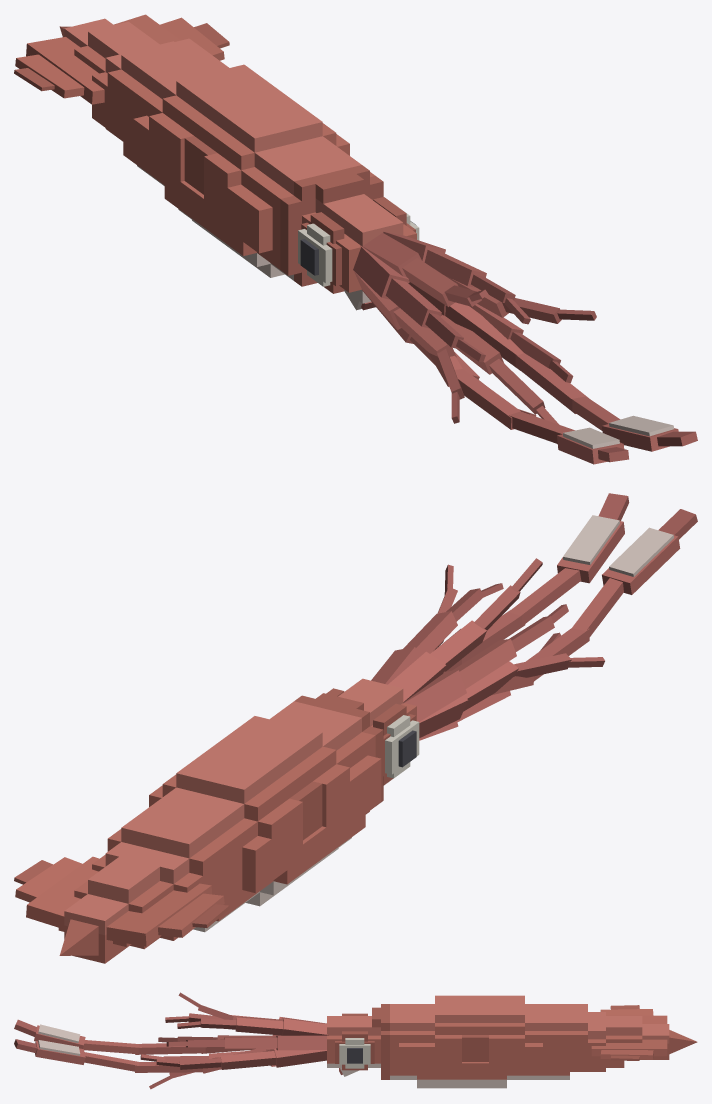
The model's file is GiantSquid.glb.
3 views of the same model, one above another, from view 1: azimuth 30°, elevation 25°; view 2: azimuth 150°, elevation 25°; view 3: azimuth 270°, elevation 25° (orthographic). The views are drawn at different scales.
Parts seen in each view (by area): view 1: Mantle, Head, FinL, TRe, FinR, TLe, TRb, TLc, TRc, A4b, A4a, A3b (+12 smaller); view 2: Mantle, FinL, Head, FinR, TLe, TRe, A4a, TRd, A4b, A3a, A3b, TLd (+10 smaller); view 3: Mantle, Head, FinR, TRe, TLe, A8b, A1a, A8a, A2b, FinL, A2a, A1b (+14 smaller).
Part boxes in pixels (x1,y1,x2,y2): Mantle: [59, 18, 383, 286]; Head: [298, 194, 419, 310]; FinL: [14, 37, 104, 104]; TRe: [602, 415, 697, 451]; FinR: [114, 14, 229, 60]; TLe: [557, 427, 628, 464]; TRb: [445, 302, 523, 370]; TLc: [455, 369, 520, 429]; TRc: [515, 353, 587, 413]; A4b: [385, 278, 441, 328]; A4a: [353, 245, 408, 299]; A3b: [402, 258, 458, 306]; Mantle: [58, 693, 383, 963]; FinL: [106, 883, 229, 946]; Head: [326, 678, 419, 785]; FinR: [14, 856, 99, 929]; TLe: [602, 509, 697, 594]; TRe: [557, 493, 629, 583]; A4a: [401, 670, 466, 721]; TRd: [509, 568, 581, 626]; A4b: [452, 639, 516, 688]; A3a: [388, 651, 446, 702]; A3b: [430, 620, 486, 671]; TLd: [572, 578, 623, 636]; Mantle: [372, 995, 697, 1088]; Head: [327, 1013, 380, 1076]; FinR: [591, 1039, 667, 1060]; TRe: [14, 1039, 85, 1064]; TLe: [14, 1019, 85, 1048]; A8b: [220, 1051, 276, 1069]; A1a: [276, 1035, 326, 1050]; A8a: [274, 1048, 326, 1067]; A2b: [235, 1017, 283, 1035]; FinL: [600, 1005, 667, 1023]; A2a: [282, 1018, 329, 1035]; A1b: [224, 1037, 277, 1048].
Bounding box in the file's own units: 6.4 × 4.56 × 34.18.
